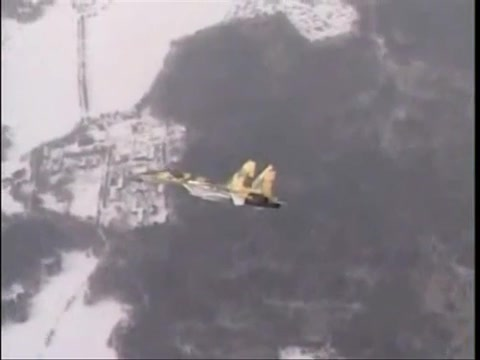aeroplane: (147, 160, 287, 212)
